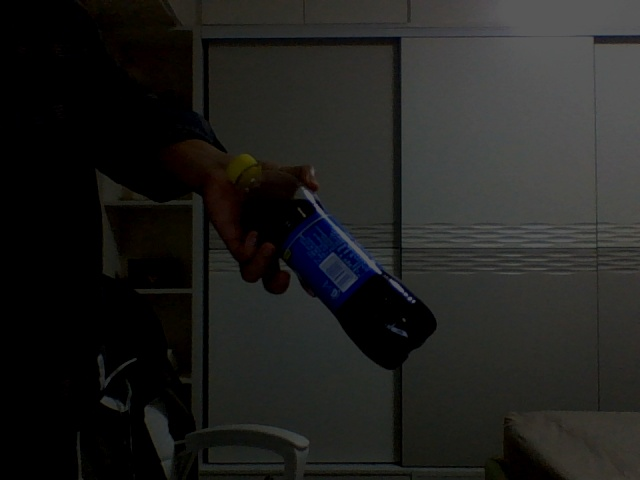Cola: (225, 154, 437, 371)
